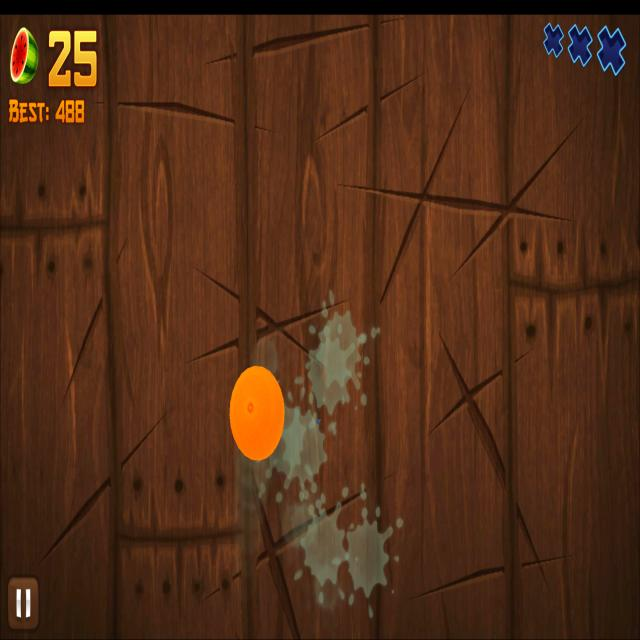fruit: (229, 366, 285, 461)
